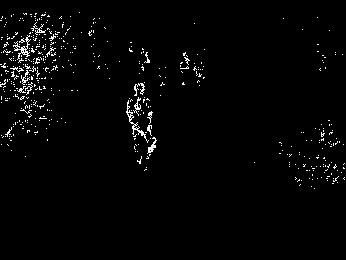person: (126, 82, 156, 173)
